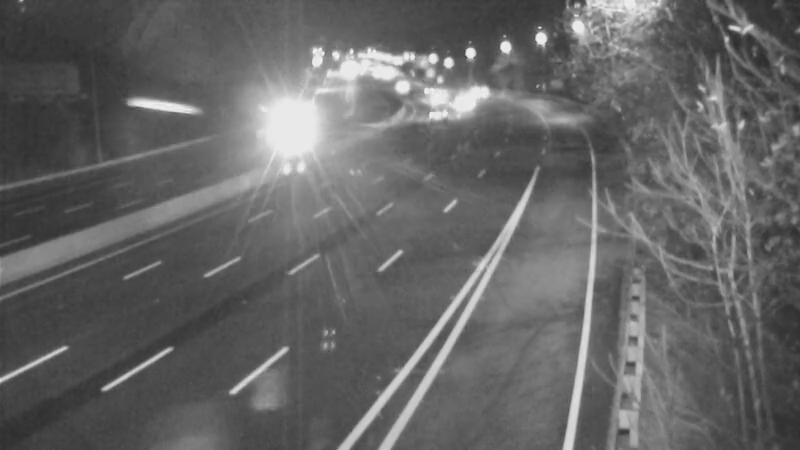vehicle: (373, 64, 423, 114), (400, 68, 450, 118), (455, 65, 505, 115), (415, 73, 465, 123), (441, 78, 491, 128), (413, 89, 463, 139), (272, 105, 322, 155)
